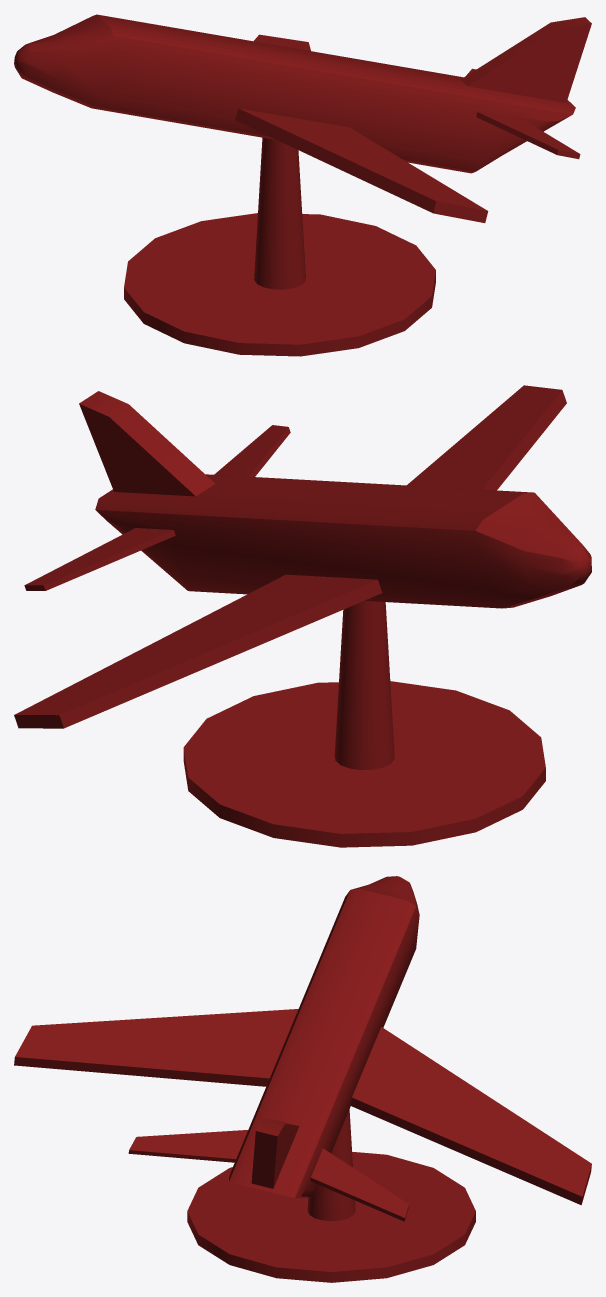
Rendered from planeToken.fbx.
3 renders of one model, top to bottom at view 1: azimuth 30°, elevation 25°; view 2: azimuth 150°, elevation 25°; view 3: azimuth 270°, elevation 25°, orthographic. The views are drawn at different scales.
Visible parts, largest first — view 1: Plane; view 2: Plane; view 3: Plane.
Part boxes in pixels (box(x1,y1,x2,y2)): Plane: box(14, 14, 591, 356); Plane: box(14, 385, 591, 847); Plane: box(14, 876, 591, 1282).
Bounding box in the file's own units: 471 × 257 × 510.
